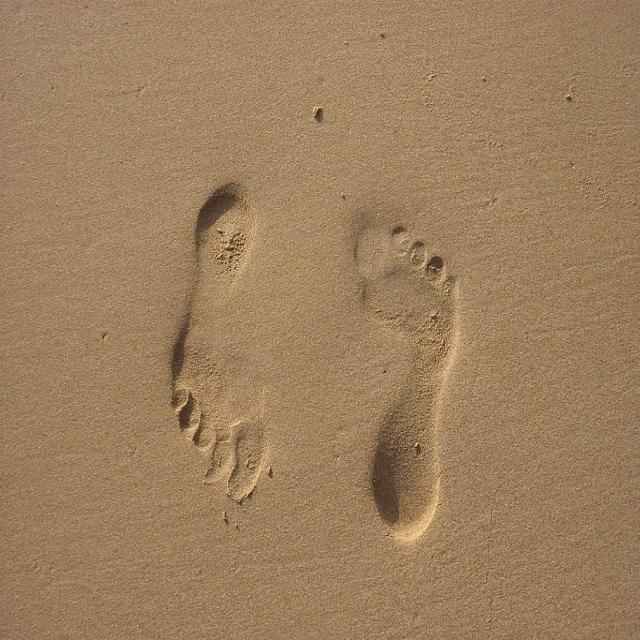human_foot_print: (342, 212, 461, 548), (164, 178, 269, 512)
